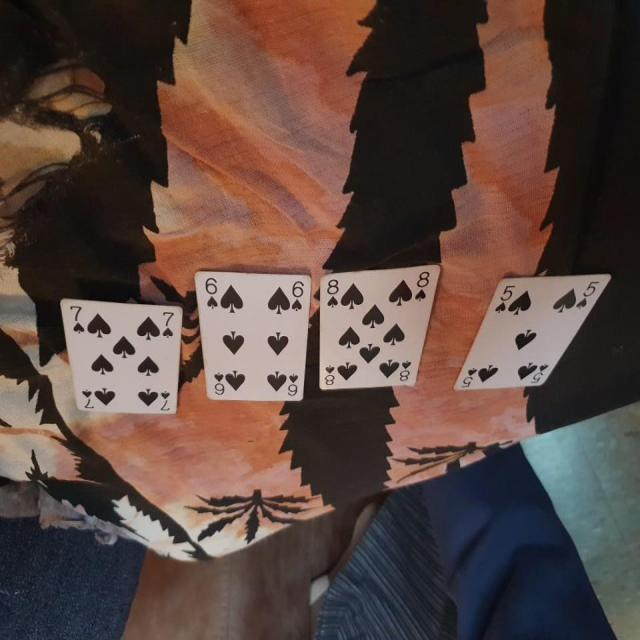5 of spades: (453, 268, 615, 418)
6 of spades: (186, 264, 312, 415)
7 of spades: (54, 289, 188, 434)
8 of spades: (314, 260, 446, 400)
